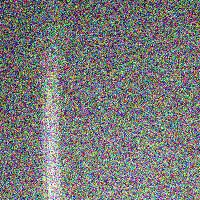scratches: (40, 37, 65, 198)
